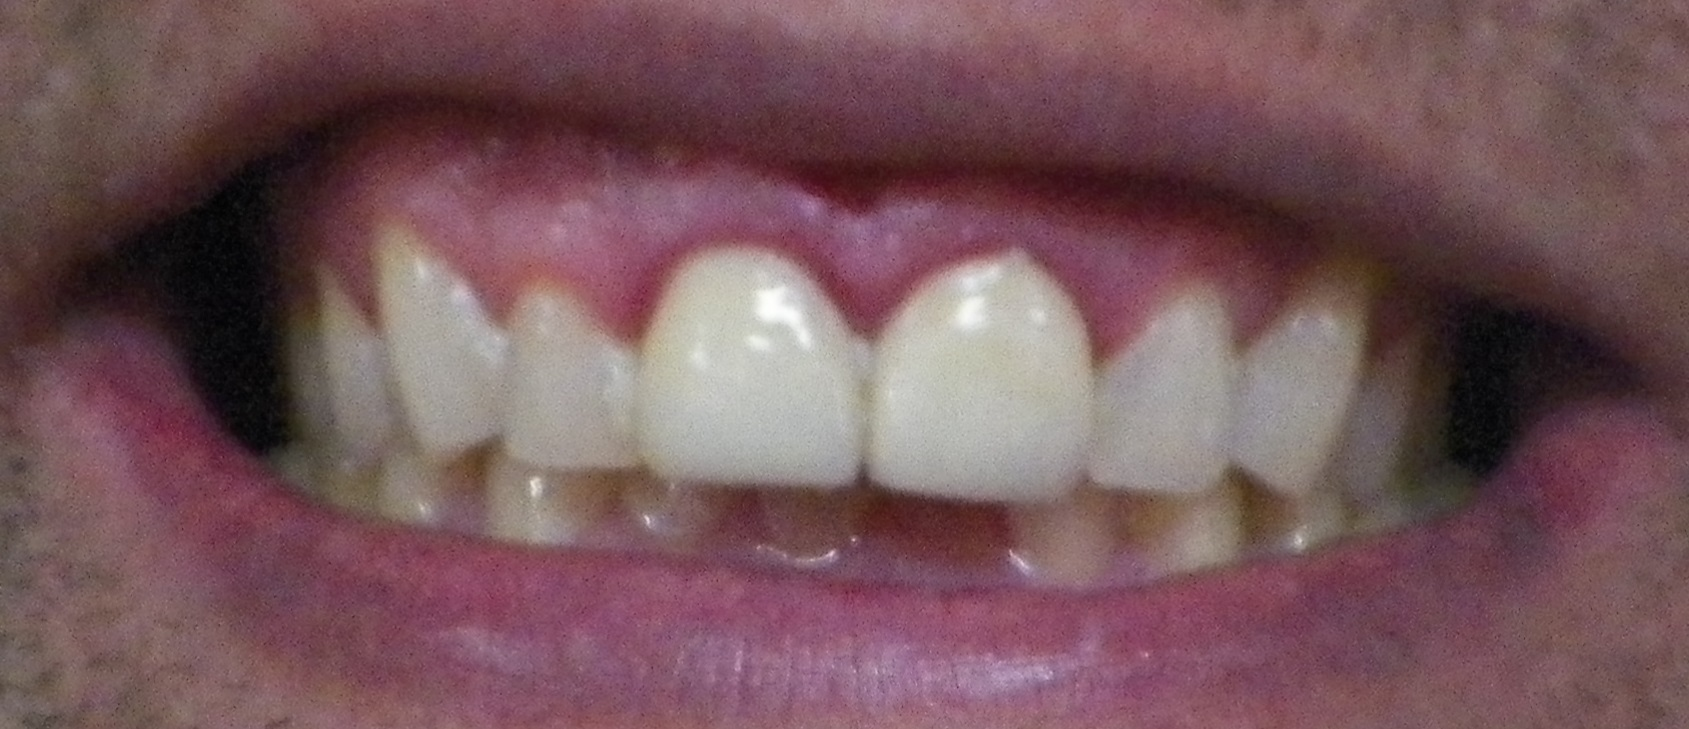boca: (270, 227, 1533, 551)
